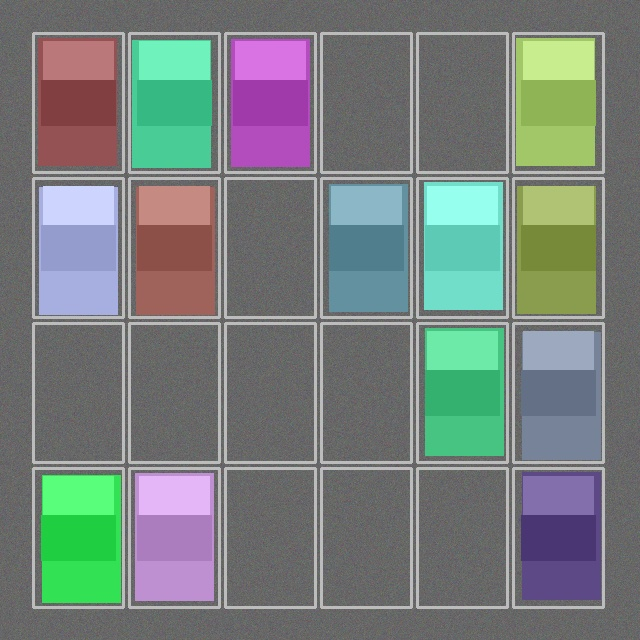space-empty: (323, 35, 409, 170), (419, 35, 505, 170), (227, 180, 313, 315), (35, 325, 121, 460), (131, 325, 217, 460), (227, 325, 313, 460), (323, 325, 409, 460), (227, 470, 313, 605), (323, 470, 409, 605), (419, 470, 505, 605)
space-occupied: (35, 35, 121, 170), (131, 35, 217, 170), (227, 35, 313, 170), (515, 35, 601, 170), (35, 180, 121, 315), (131, 180, 217, 315), (323, 180, 409, 315), (419, 180, 505, 315), (515, 180, 601, 315), (419, 325, 505, 460), (515, 325, 601, 460), (35, 470, 121, 605), (131, 470, 217, 605), (515, 470, 601, 605)
